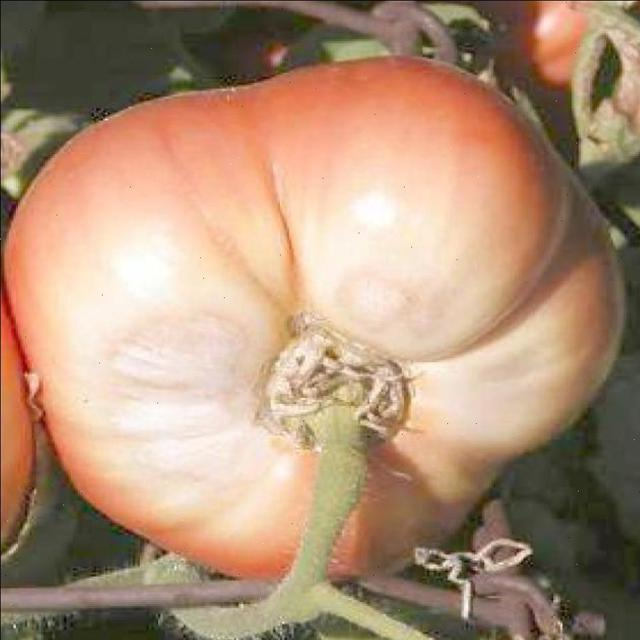Sunscald Fruit: (83, 58, 330, 275)
